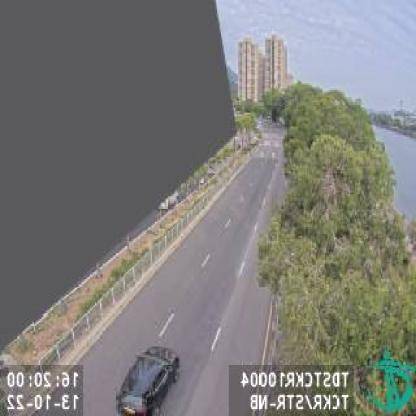Car: (117, 344, 179, 415)
